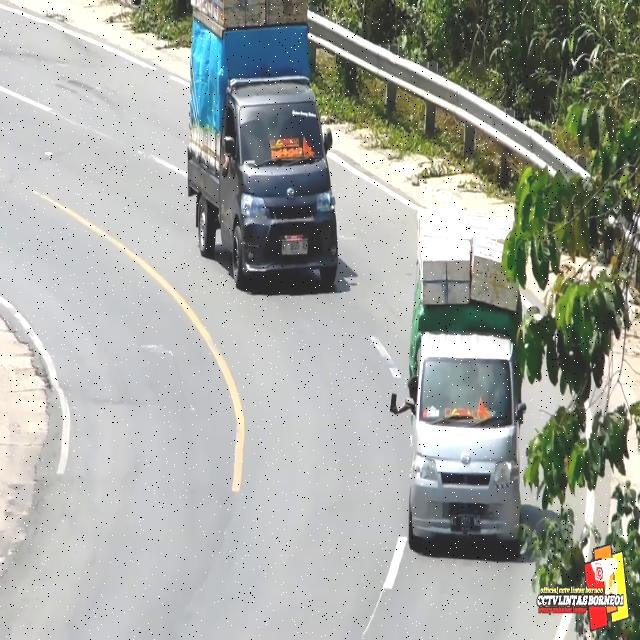Golongan IVB: (187, 75, 339, 292), (408, 333, 526, 551)
